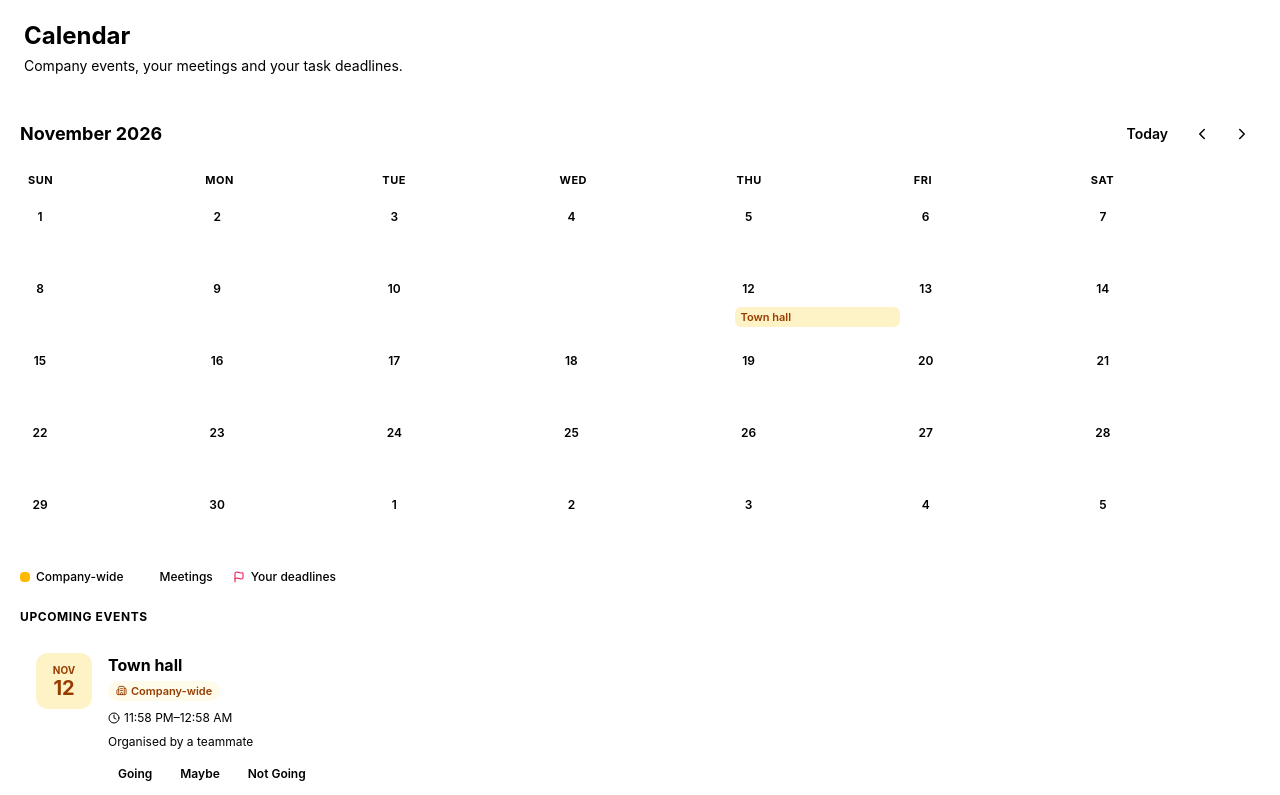
Test case: Calendar recovery and links › shows a failed company-event RSVP so the user can retry
This screenshot has width=1280, height=795.
Click the button "Going": (135,774) [108,762,162,786]
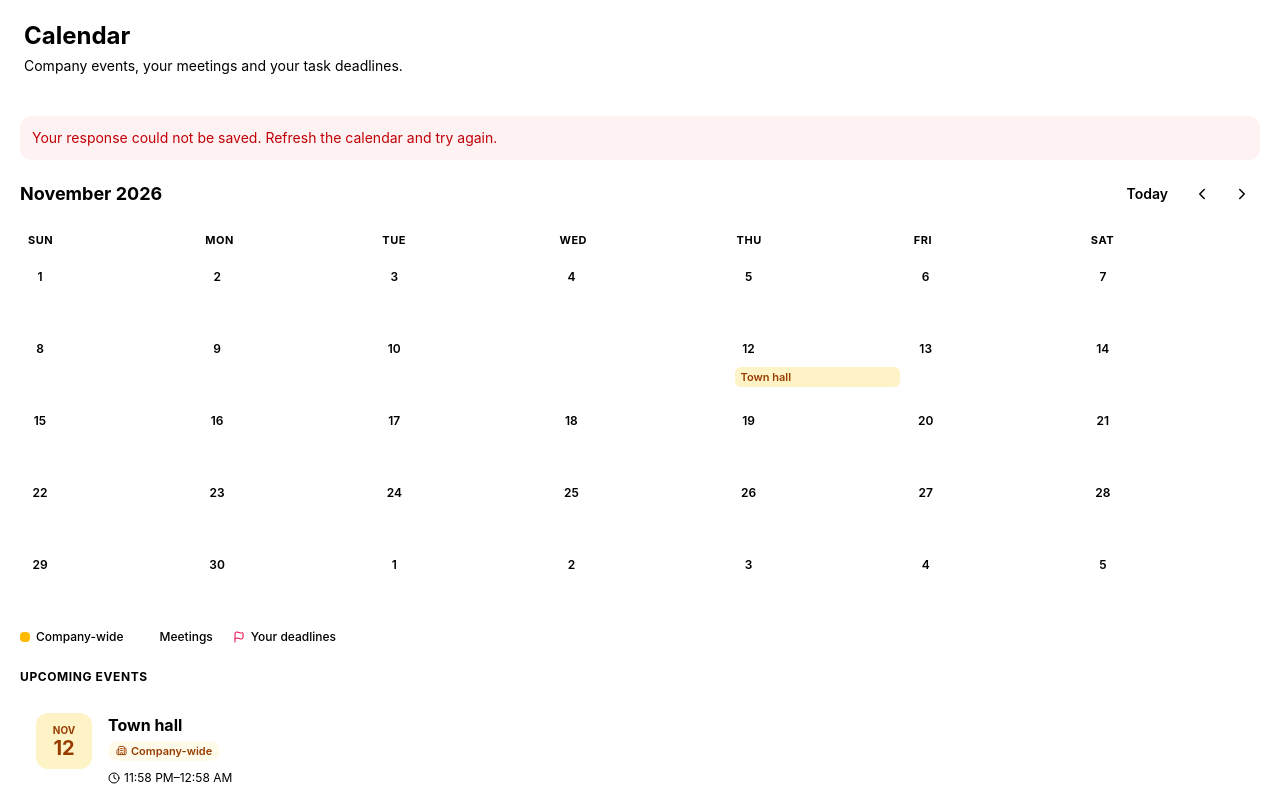
Now the message shows "Your response could not be saved.", box [32,129,497,146]
